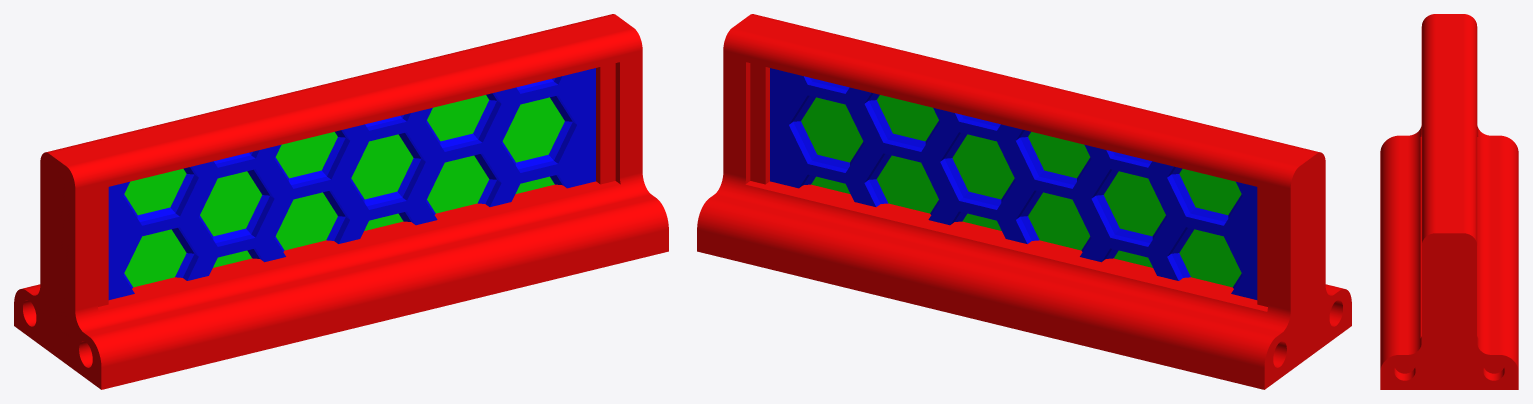
File: shieldwall_straight_hex.gltf
The picture shows the model from 3 angles, left to right: view 1: azimuth 30°, elevation 25°; view 2: azimuth 150°, elevation 25°; view 3: azimuth 270°, elevation 25°; orthographic projection. The views are drawn at different scales.
Visible parts, largest first — view 1: frame, fa88fac4-156f-11f1-bd9c-acf46620c64a, window; view 2: frame, fa88fac4-156f-11f1-bd9c-acf46620c64a, window; view 3: frame.
Part boxes in pixels (left/top/right/bottom): frame: left=14, top=14, right=668, bottom=389; fa88fac4-156f-11f1-bd9c-acf46620c64a: left=108, top=68, right=595, bottom=299; window: left=124, top=95, right=564, bottom=287; frame: left=697, top=14, right=1351, bottom=389; fa88fac4-156f-11f1-bd9c-acf46620c64a: left=770, top=68, right=1257, bottom=299; window: left=801, top=95, right=1241, bottom=287; frame: left=1380, top=14, right=1518, bottom=389.
Size of the model in its own units: 75 by 25 by 20.
